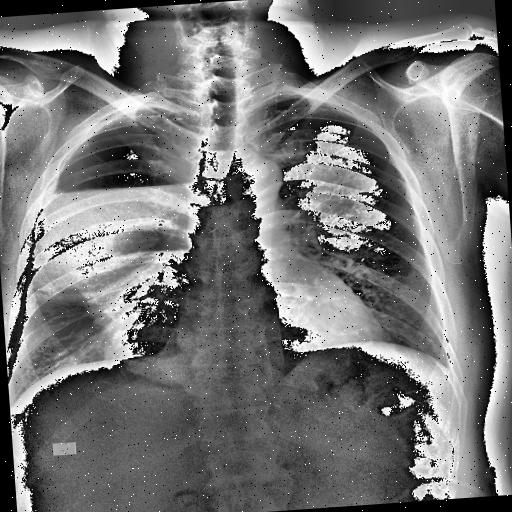12- Pneumothorax: (64, 120, 188, 192)
4- Consolidation: (38, 186, 208, 365), (63, 244, 214, 363), (74, 251, 200, 369)
9- Other lesion: (15, 102, 200, 297), (23, 127, 186, 306)
